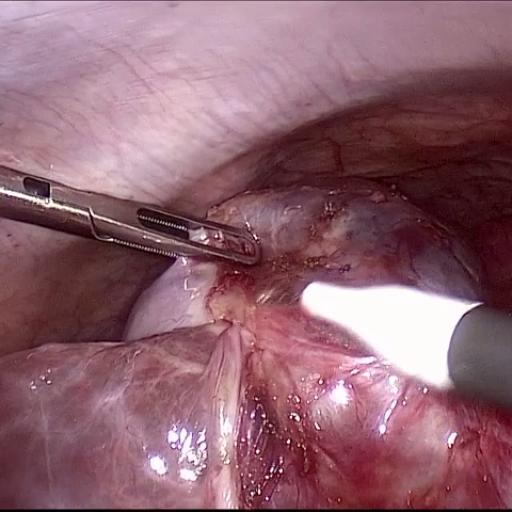Grasper: (13, 132, 288, 322)
Hook: (292, 218, 484, 421)
